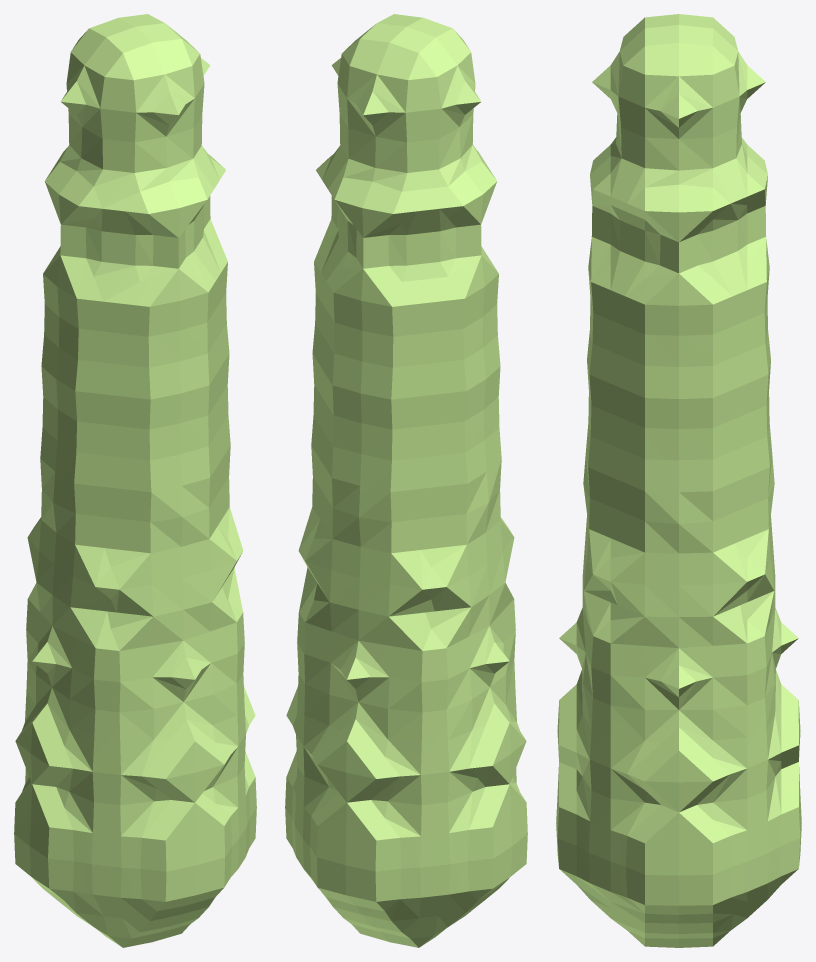
File: Ramas .fbx
3 renders of one model, left to right at view 1: azimuth 30°, elevation 25°; view 2: azimuth 150°, elevation 25°; view 3: azimuth 270°, elevation 25°, orthographic.
Visible parts, largest first — view 1: GameObject; view 2: GameObject; view 3: GameObject.
Part boxes in pixels (<box>): GameObject: <box>14,14,256,947</box>; GameObject: <box>285,14,527,947</box>; GameObject: <box>556,14,801,947</box>.
Size of the model in its own units: 721 by 2946 by 721.
